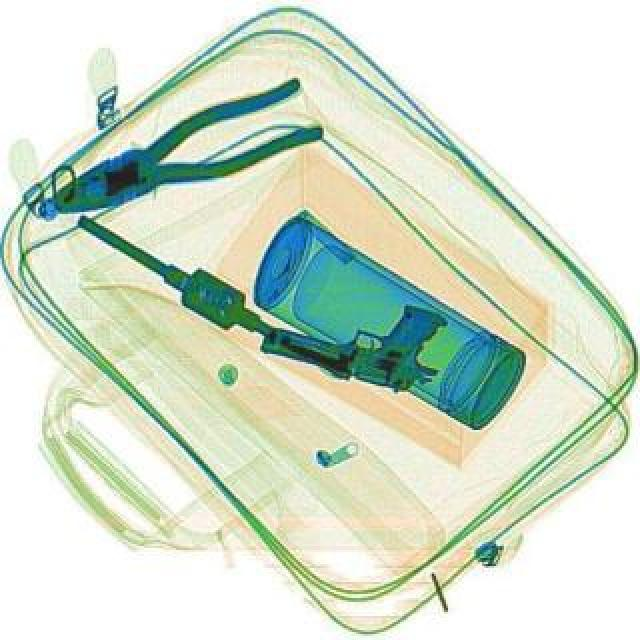gun: (256, 270, 456, 404)
wrench: (38, 70, 328, 238)
